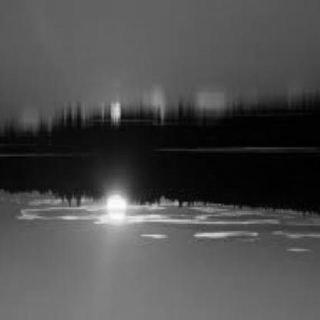other: (105, 183, 127, 235)
